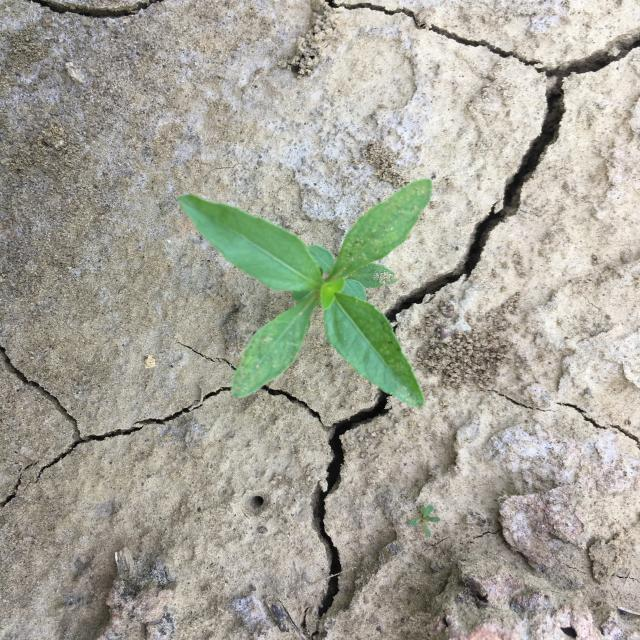Carpetweed: (407, 504, 441, 538)
Eclipta: (177, 179, 433, 408)
